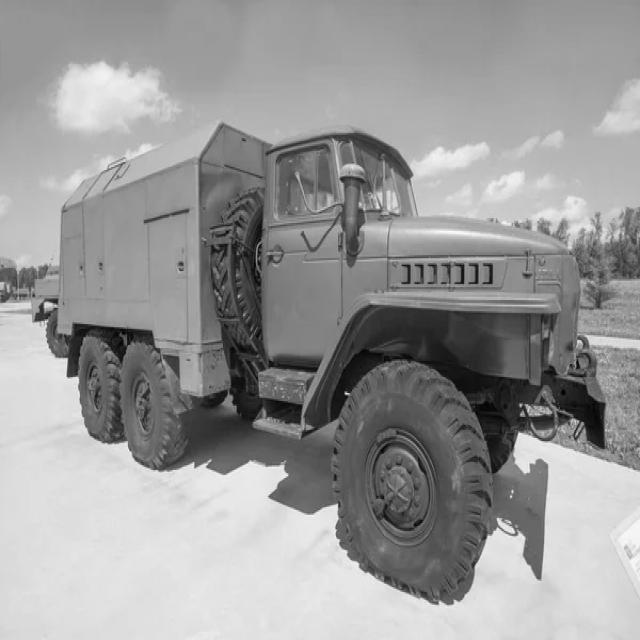Truck: (59, 120, 607, 601)
